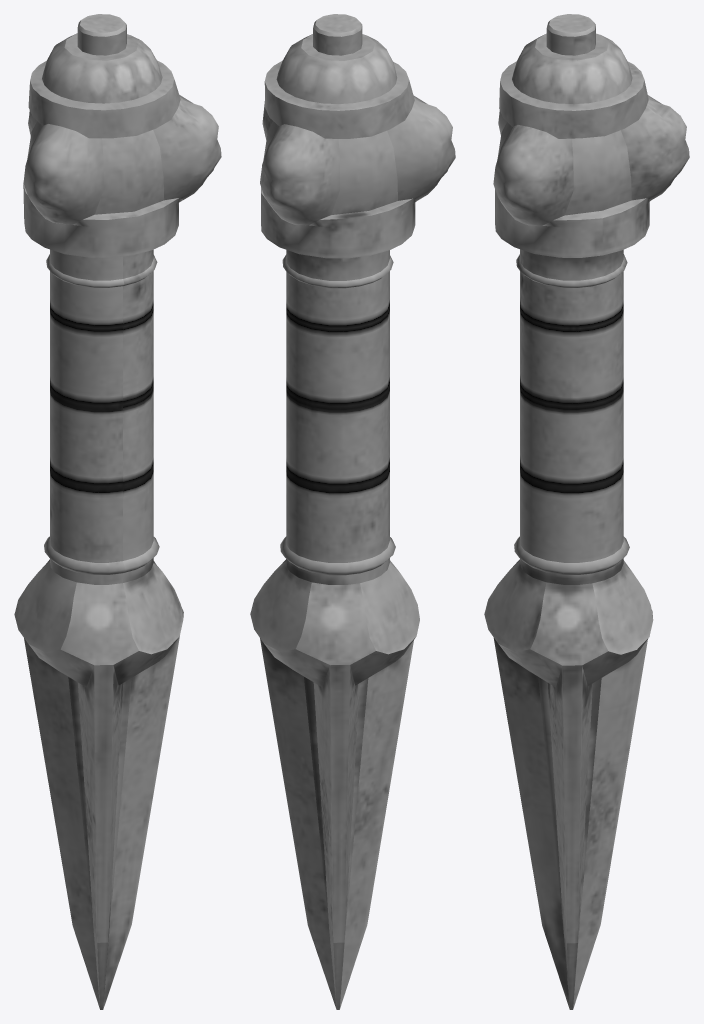
Rendered from phurba.glb.
The picture shows the model from 3 angles, left to right: view 1: azimuth 30°, elevation 25°; view 2: azimuth 150°, elevation 25°; view 3: azimuth 270°, elevation 25°; orthographic projection.
Visible parts, largest first — view 1: RitualDagger; view 2: RitualDagger; view 3: RitualDagger.
Boxes of the visible parts, x1,y1,x2,y2 form: RitualDagger: [14, 14, 221, 1009]; RitualDagger: [250, 14, 455, 1009]; RitualDagger: [484, 14, 689, 1009].
Bounding box in the file's own units: 79.52 × 412 × 77.81.
Materials: 1 (1 with a texture image).
